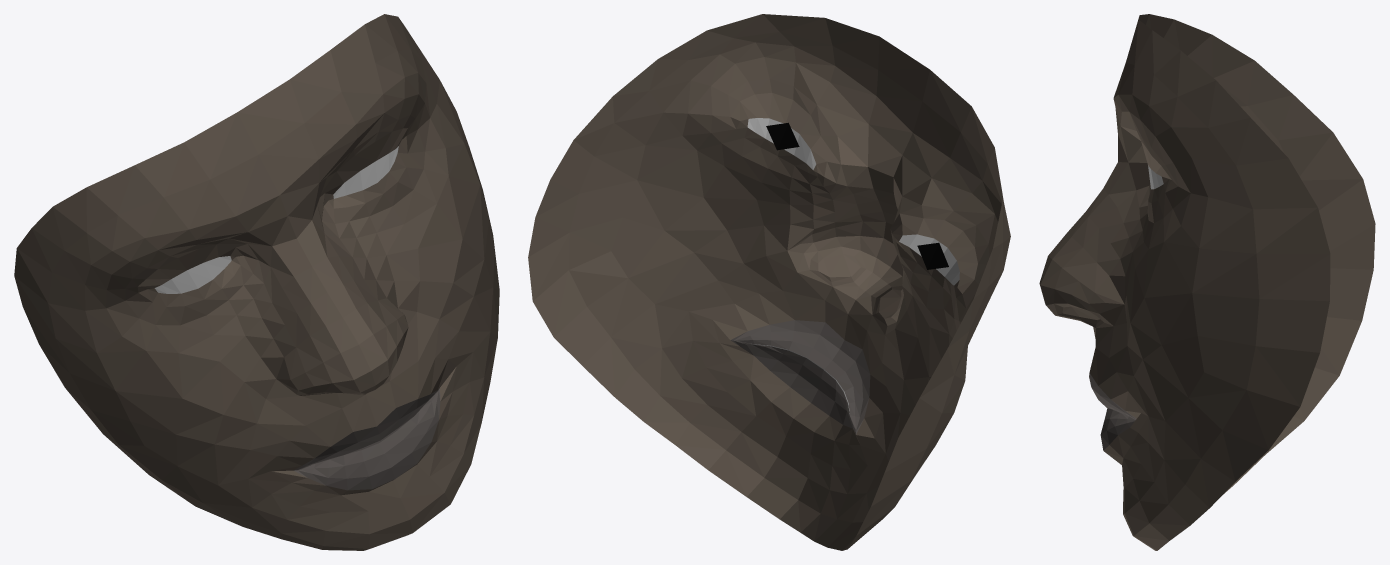
File: annoyed2.obj
The picture shows the model from 3 angles, left to right: view 1: azimuth 30°, elevation 25°; view 2: azimuth 150°, elevation 25°; view 3: azimuth 270°, elevation 25°; orthographic projection. The views are drawn at different scales.
Visible parts, largest first — view 1: face_model_with_iris; view 2: face_model_with_iris; view 3: face_model_with_iris.
Part boxes in pixels (bbox=[...]): face_model_with_iris: bbox=[14, 14, 499, 550]; face_model_with_iris: bbox=[528, 14, 1010, 550]; face_model_with_iris: bbox=[1039, 14, 1375, 550].
Bounding box in the file's own units: 0.8952 × 0.9954 × 0.611.
